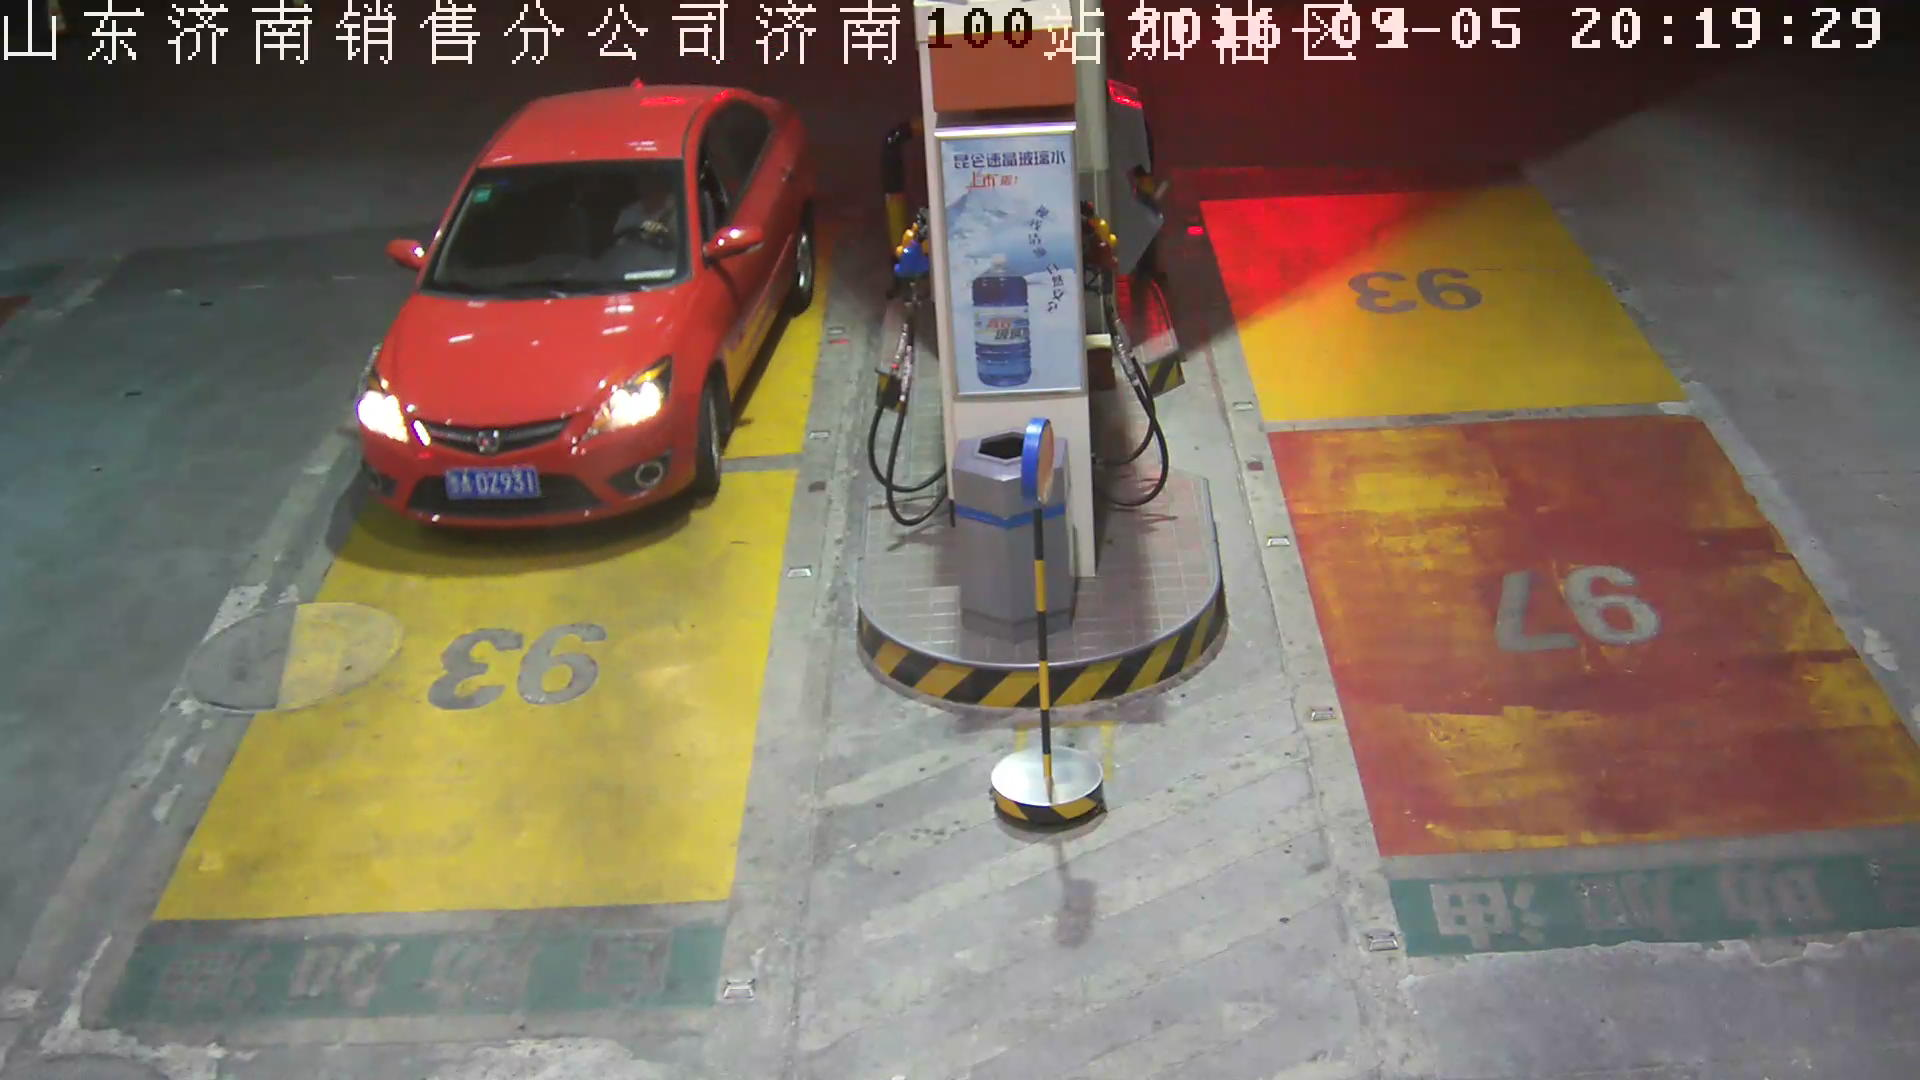blue: (440, 465, 543, 505)
